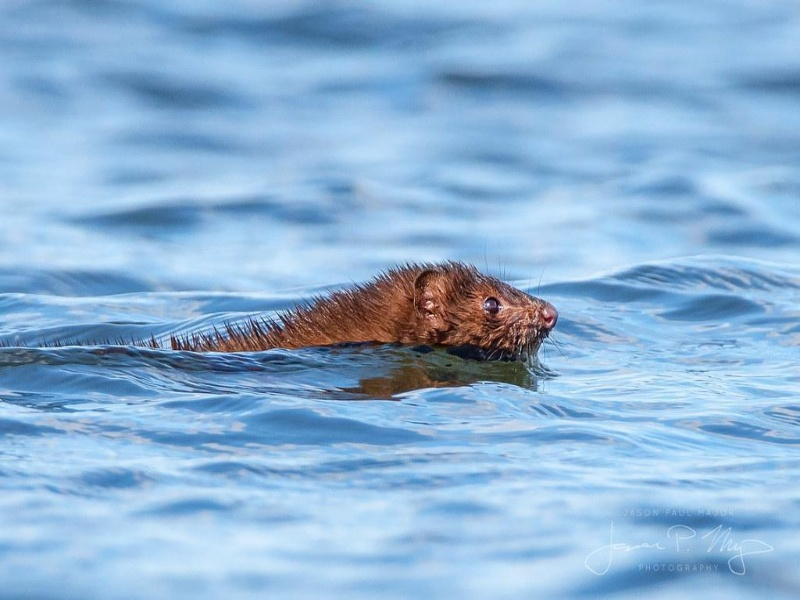minkish: (182, 257, 562, 361)
